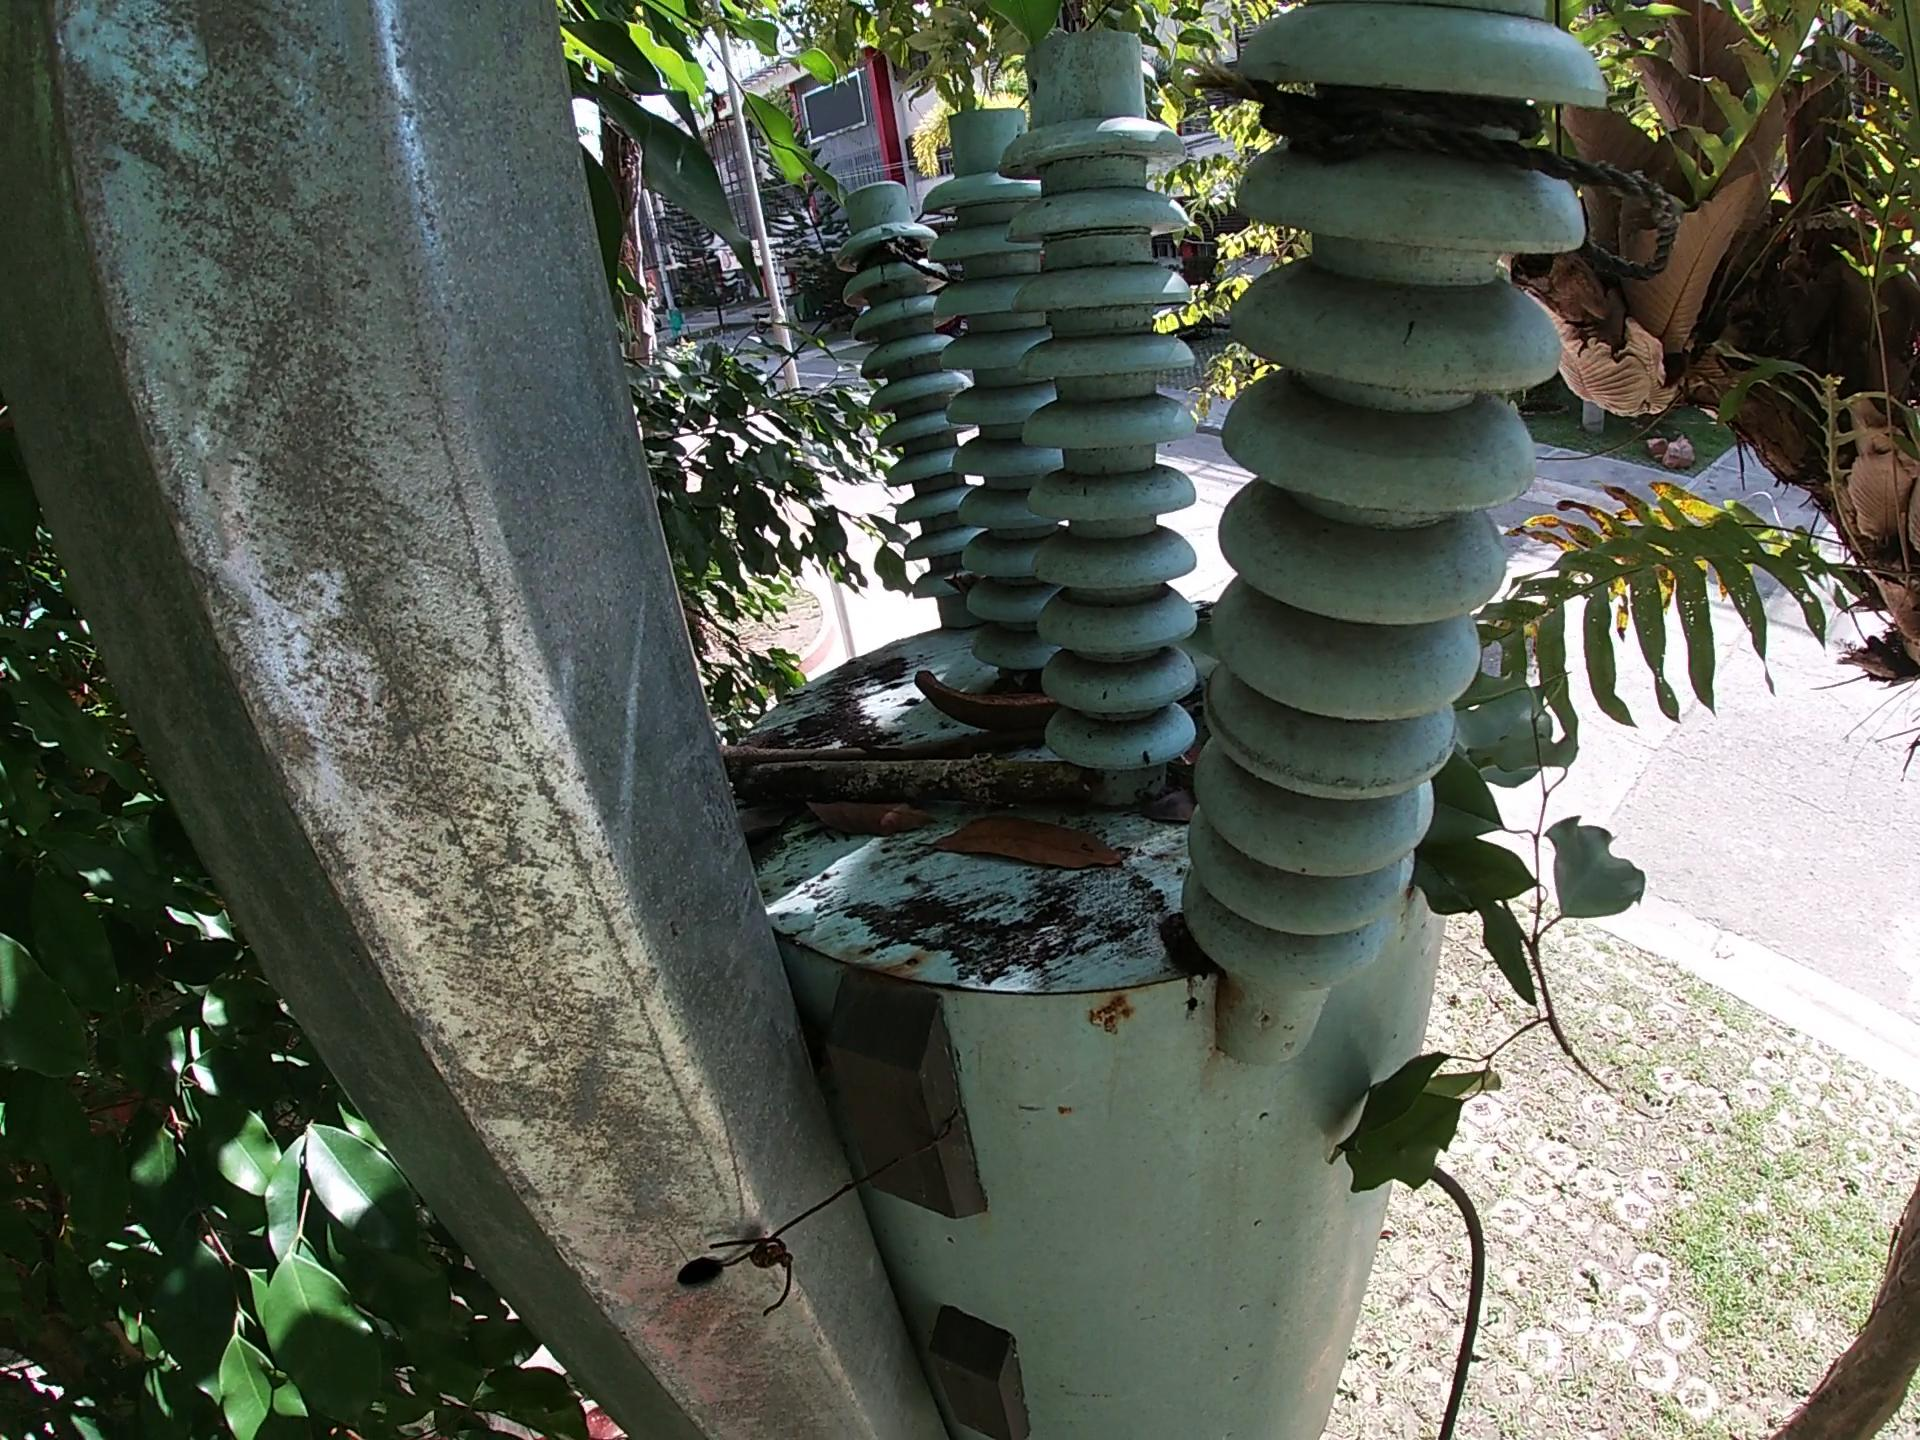branch with leaves: (1329, 629, 1649, 1218)
leaf: (927, 815, 1117, 864), (1179, 613, 1225, 731), (806, 796, 919, 839)
mahogany fruit: (909, 655, 1082, 740)
tree branch: (751, 758, 1069, 806), (709, 732, 924, 768)
